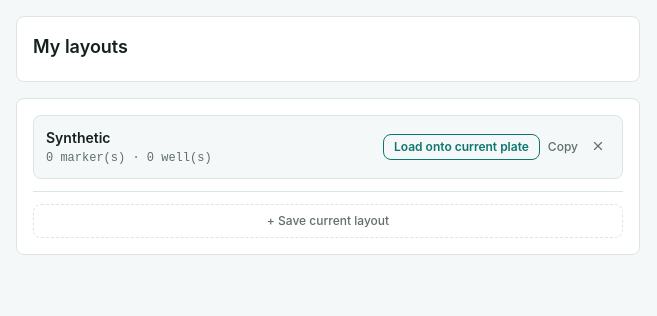
Scenario: distinguishes a successful copy followed by failed refresh from mutation failure
This screenshot has width=657, height=316.
Click the button with test id "layout-copy-button".
click(563, 147)  # box 548,134 -> 578,160
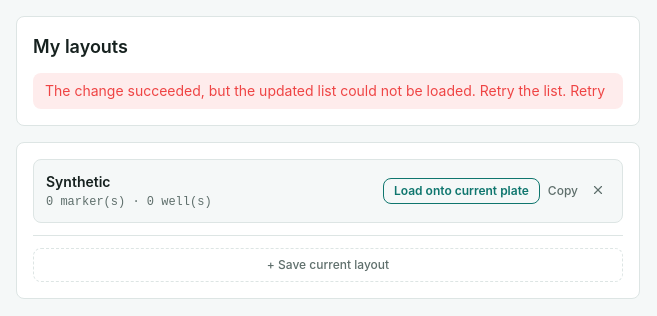
Expected: the element with test id "layout-row" shows "Synthetic", 46,173 -> 110,190
Expected: the message shows "The change succeeded", 45,82 -> 566,99
